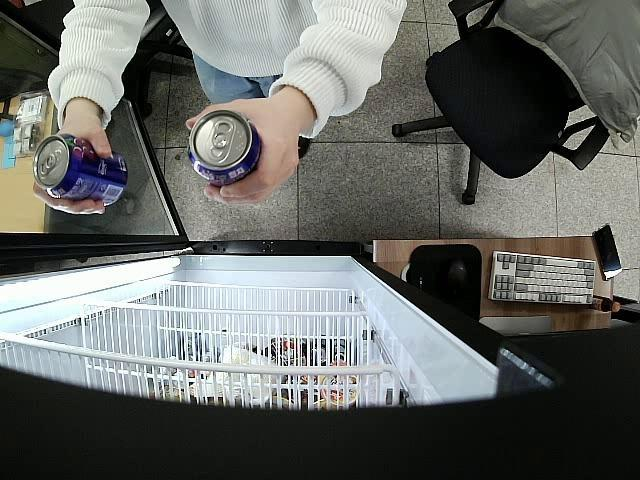14_welchsGrape: (32, 134, 128, 208), (186, 110, 261, 188)
